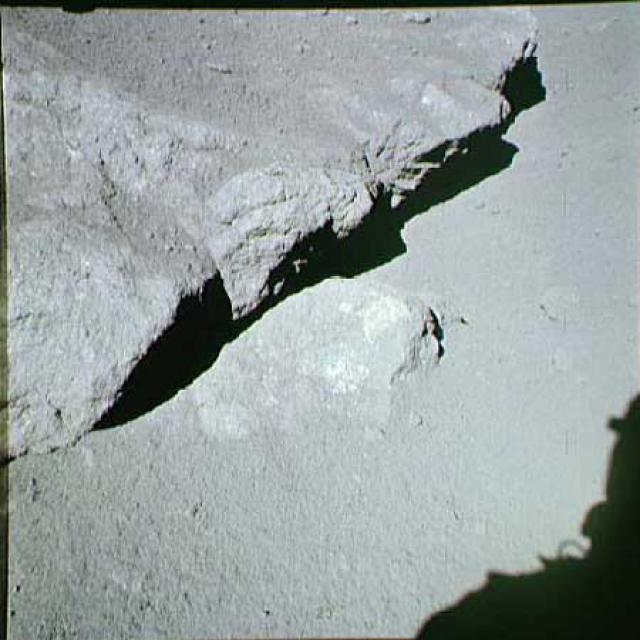rock: (0, 7, 557, 466), (194, 270, 456, 450)
